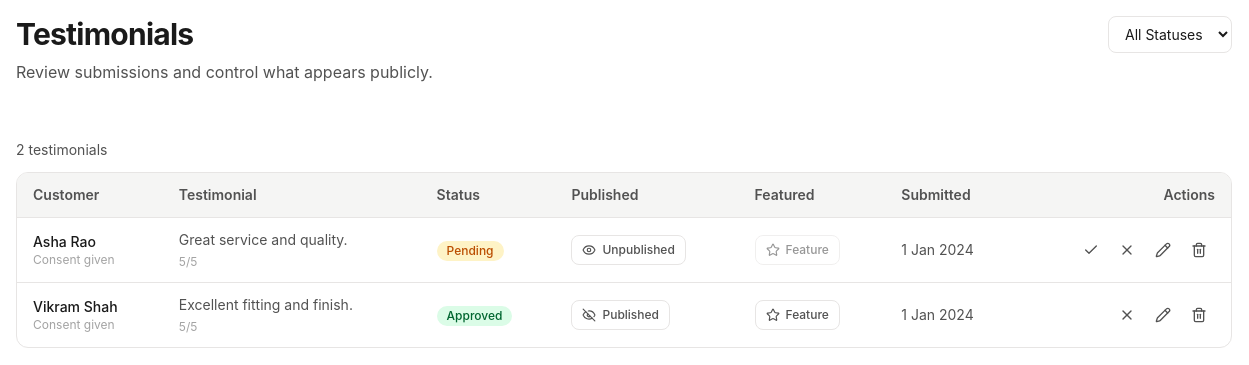
TestimonialsAdminPage › features an eligible testimonial
Expected: the text "Vikram Shah" is shown, [33,298,118,315]
Step 1. Click the button with aria-label "feature testimonial from vikram shah" → click(797, 315), box [754,300,840,330]
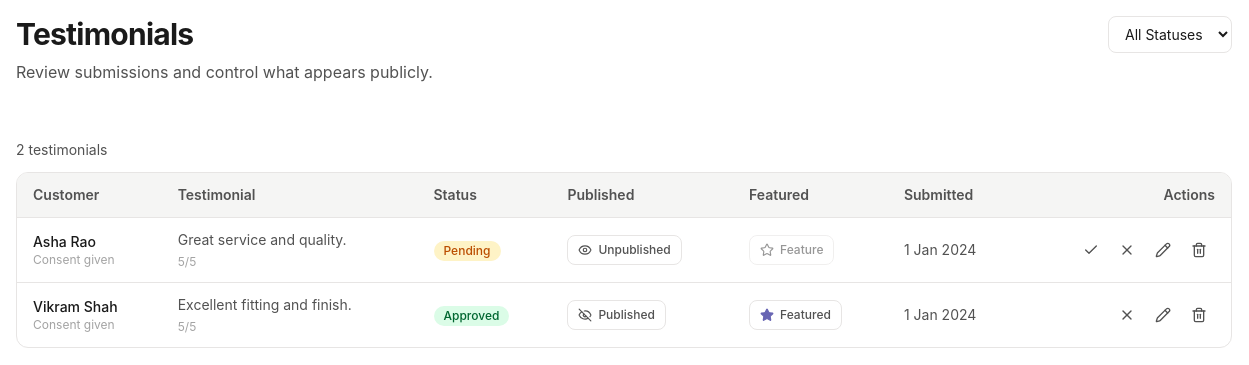
Expected: the button with aria-label "unfeature testimonial from vikram shah" is shown, [749,300,842,330]
